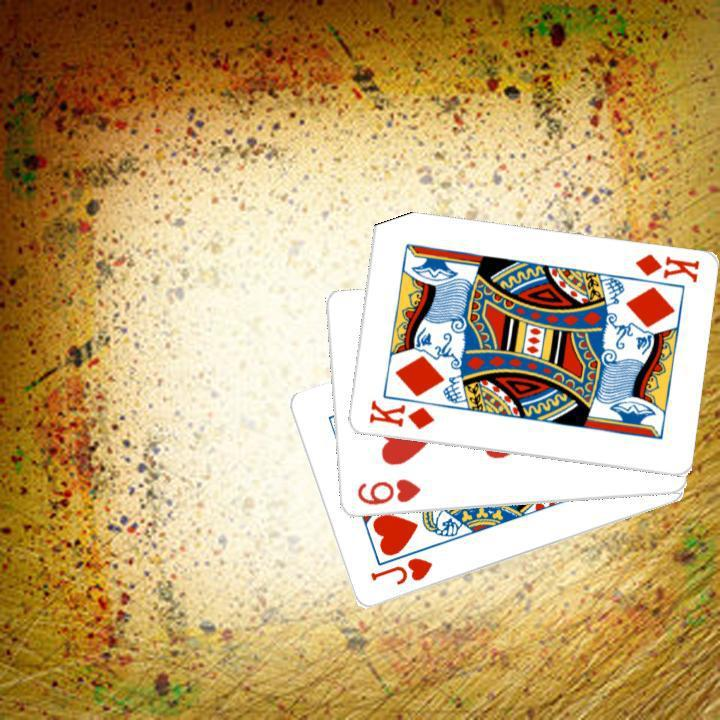6: (352, 475, 422, 508)
J: (366, 554, 434, 588)
K: (363, 396, 436, 432), (630, 249, 701, 285)
